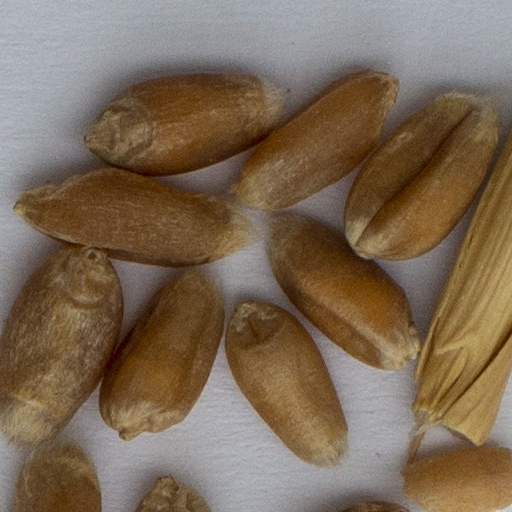Peel-poly: (414, 126, 511, 442)
